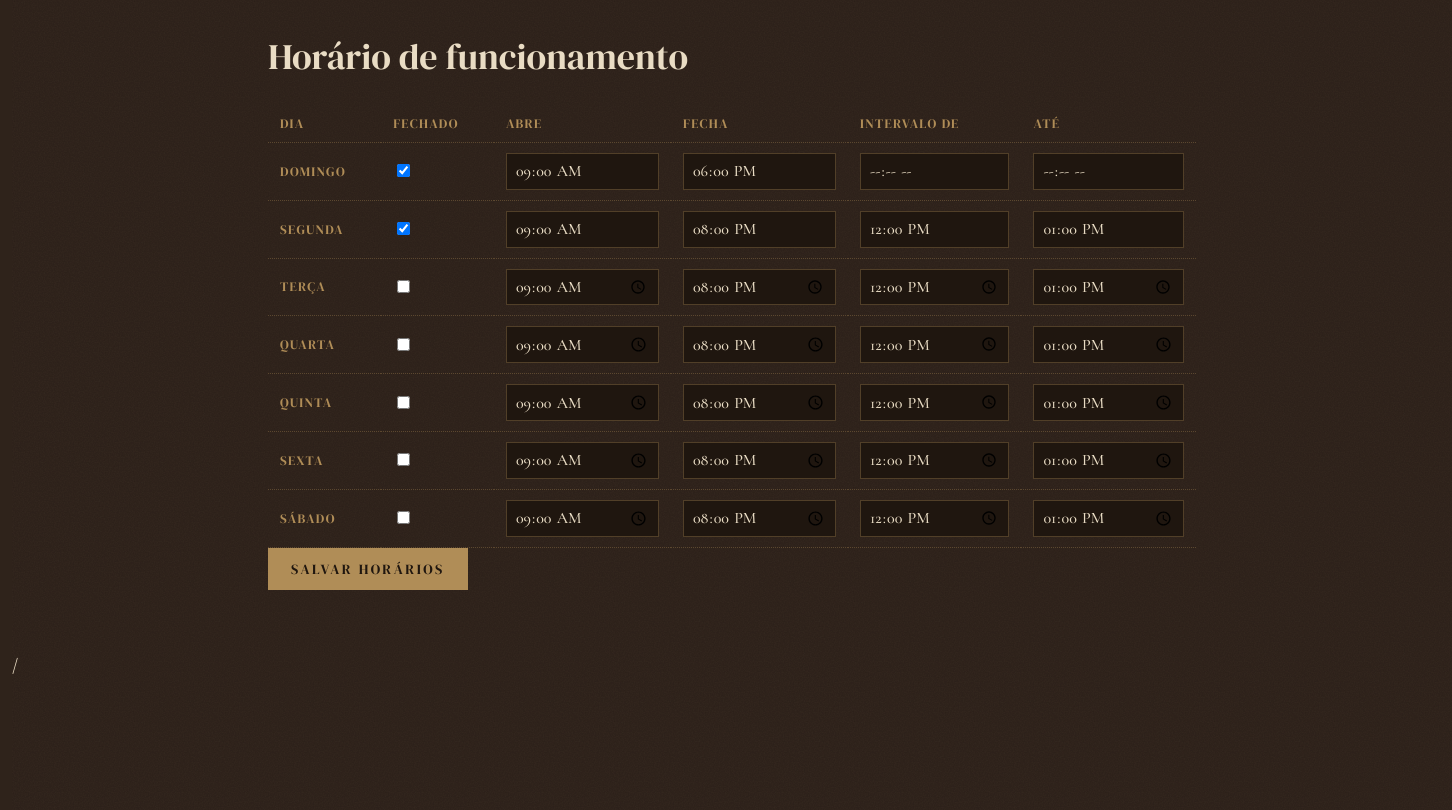
Test case: BusinessHours › break must be inside opening hours
Replace the text in the time field named "Até (Terça)" with "21:00" at (1109, 287), box [1033,269,1184,305]
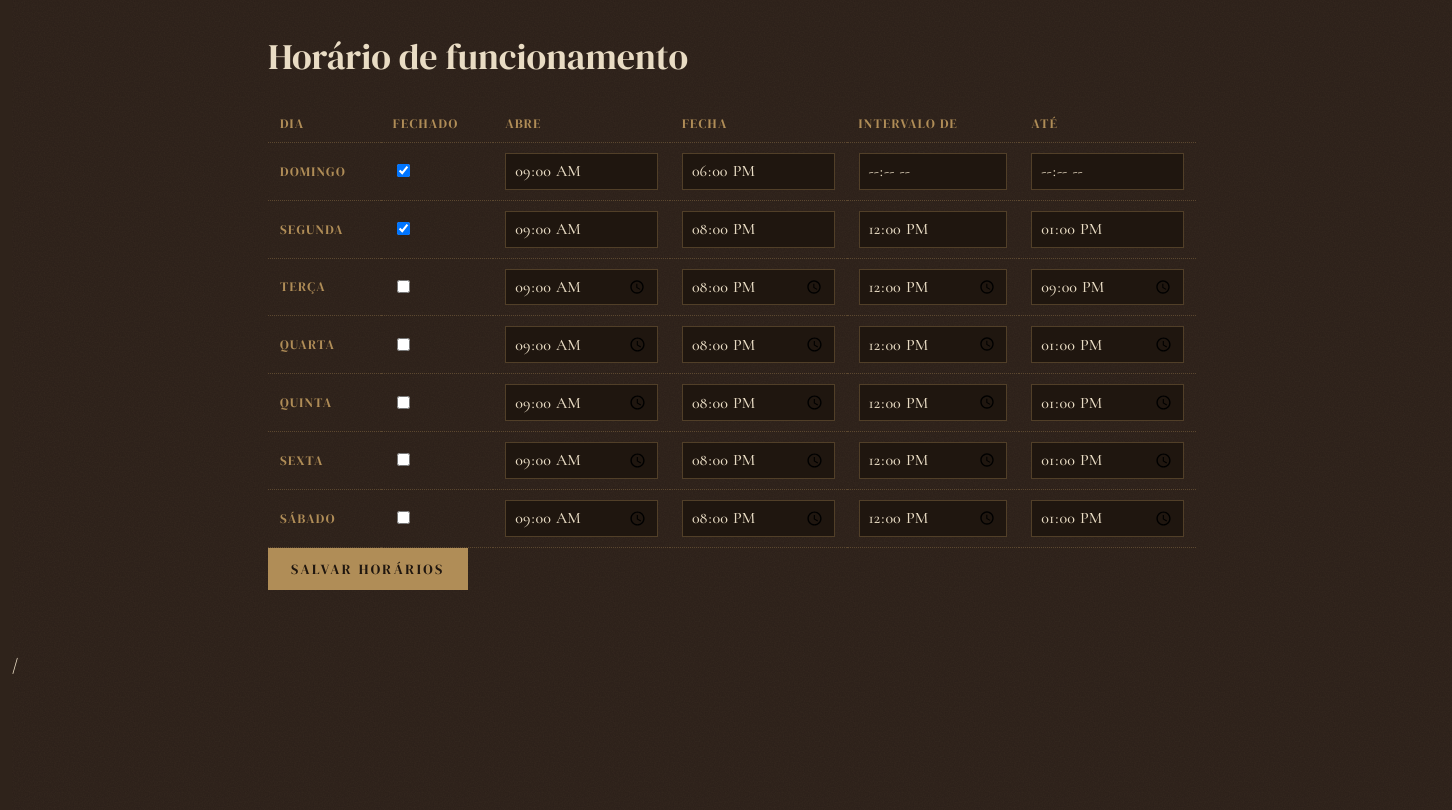
Click the button "Salvar horários" at (368, 569), box [268,548,468,590]
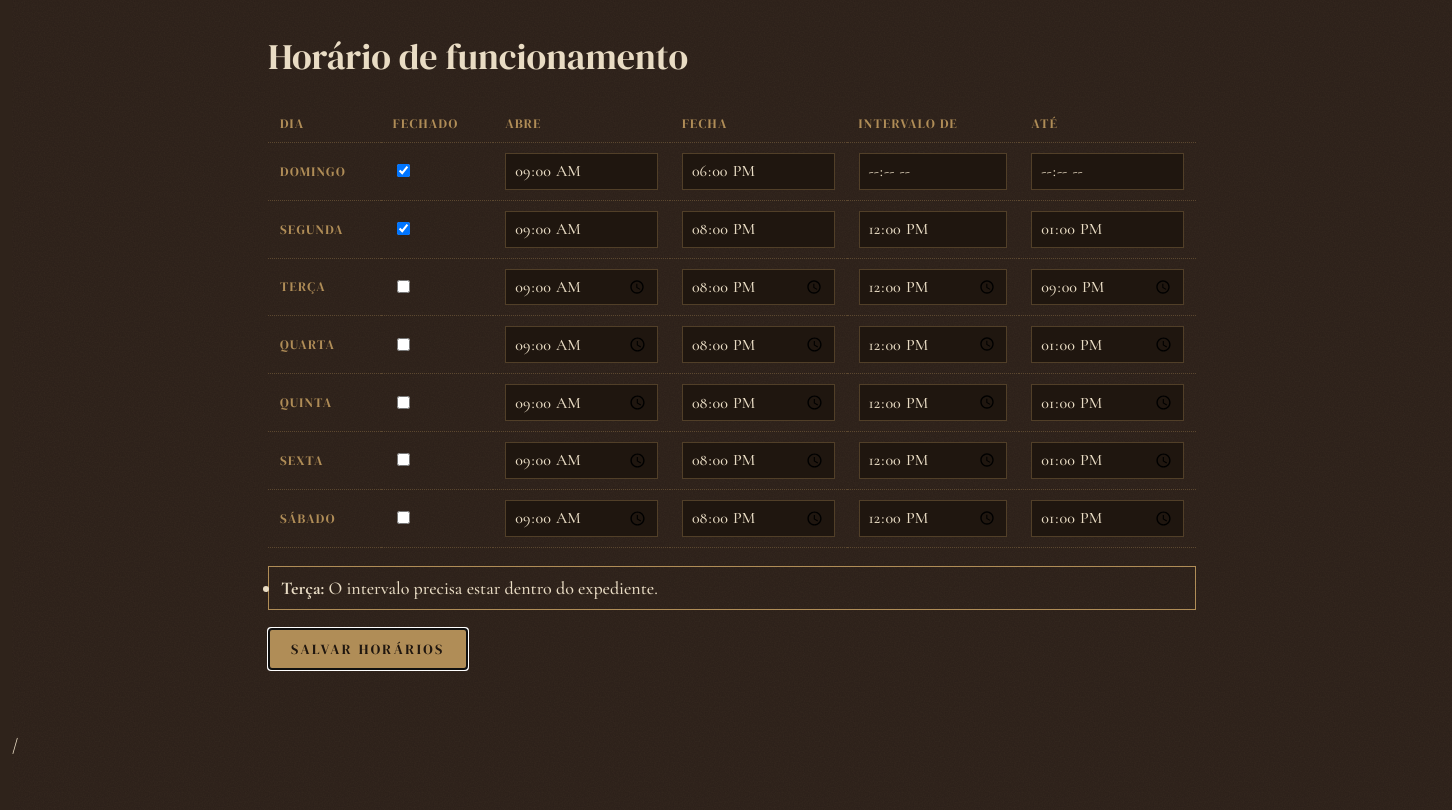
Check: the text "O intervalo precisa estar dentro do expediente." is shown, box [328,577,658,599]
